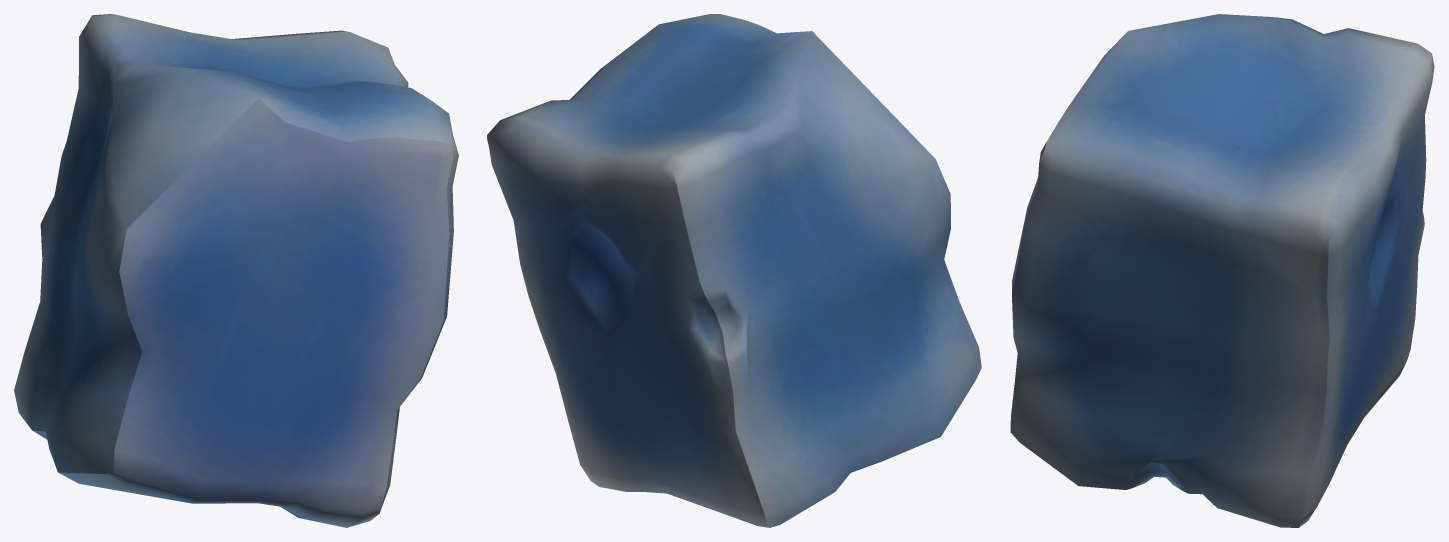
The model's file is p_dlc09_iceblock_02 (10).fbx.
3 renders of one model, left to right at view 1: azimuth 30°, elevation 25°; view 2: azimuth 150°, elevation 25°; view 3: azimuth 270°, elevation 25°, orthographic. The views are drawn at different scales.
Parts seen in each view (by area): view 1: p_dlc09_iceblock_02 (10); view 2: p_dlc09_iceblock_02 (10); view 3: p_dlc09_iceblock_02 (10).
Boxes of the visible parts, <box> form: p_dlc09_iceblock_02 (10): <box>14,14,458,527</box>; p_dlc09_iceblock_02 (10): <box>487,14,981,527</box>; p_dlc09_iceblock_02 (10): <box>1010,14,1434,527</box>.
Bounding box in the file's own units: 1.8 × 1.68 × 1.9.
1 material, 1 textured.
